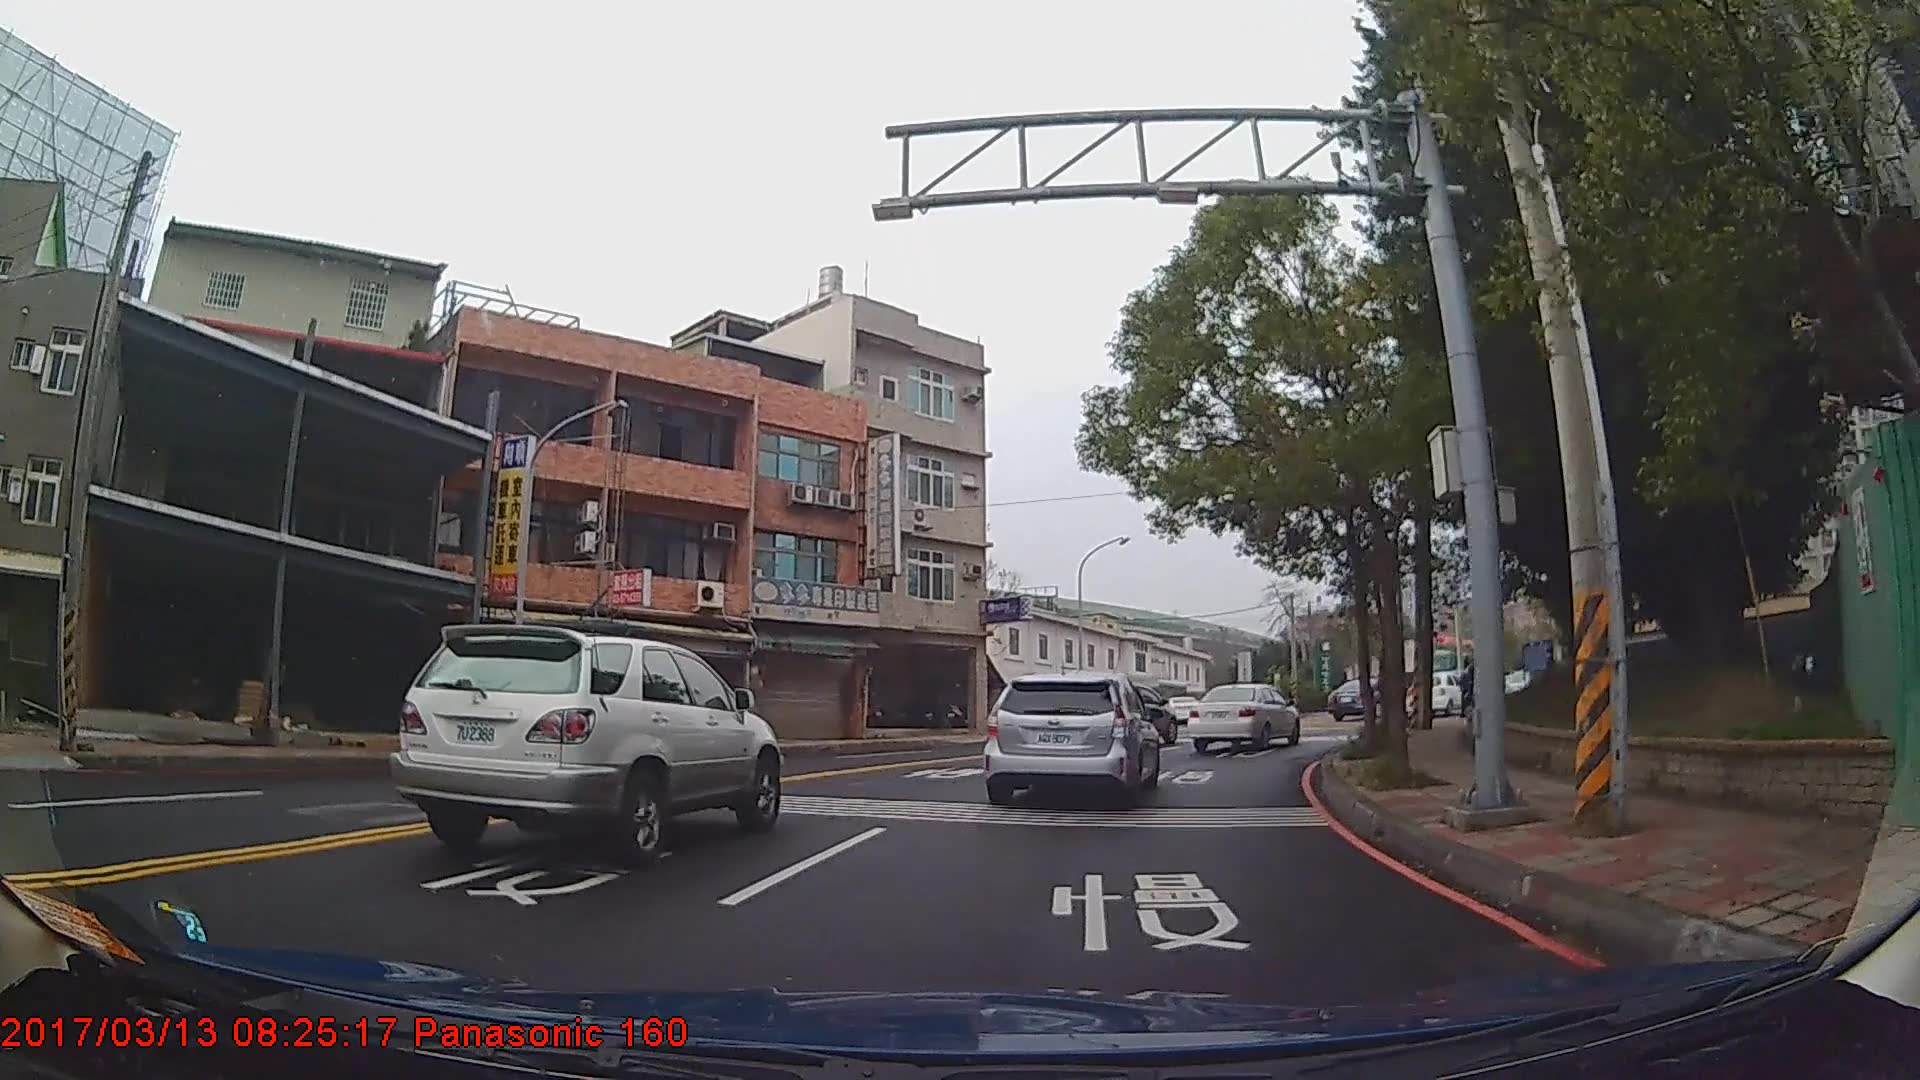vehicle: (390, 618, 782, 862), (975, 669, 1156, 810), (1185, 682, 1302, 752), (1323, 676, 1390, 719)
